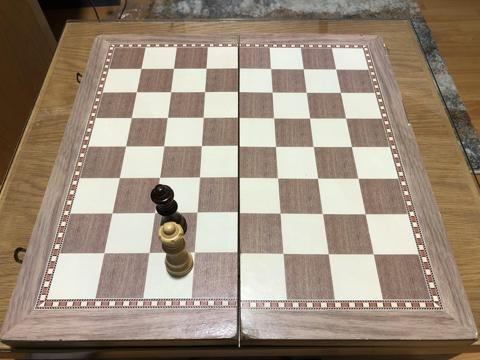xcorner: (231, 112, 244, 124), (152, 172, 164, 185), (273, 208, 286, 220), (330, 62, 342, 74), (297, 63, 309, 75), (264, 63, 276, 75), (232, 63, 244, 75), (199, 63, 211, 75), (167, 64, 179, 76), (135, 64, 147, 76), (334, 86, 346, 98), (300, 86, 312, 98), (266, 86, 278, 98), (232, 86, 244, 98), (198, 87, 210, 99), (164, 87, 176, 99), (130, 87, 142, 99), (340, 112, 352, 124), (303, 112, 315, 124), (267, 112, 279, 124), (196, 112, 208, 124), (160, 112, 172, 124), (125, 113, 137, 125), (345, 140, 357, 152), (307, 140, 319, 152), (269, 140, 281, 152), (231, 141, 243, 153), (194, 141, 206, 153), (156, 141, 168, 153), (119, 141, 131, 153), (352, 172, 364, 184), (311, 172, 323, 184), (271, 172, 283, 184), (231, 172, 243, 184), (191, 172, 203, 184), (112, 173, 124, 185), (359, 208, 371, 220), (316, 208, 328, 220), (231, 208, 243, 220), (189, 208, 201, 220), (147, 208, 159, 220), (105, 208, 117, 220), (367, 248, 379, 260), (321, 248, 333, 260), (276, 248, 288, 260), (231, 248, 243, 260), (186, 248, 198, 260), (141, 248, 153, 260), (97, 248, 109, 260)
